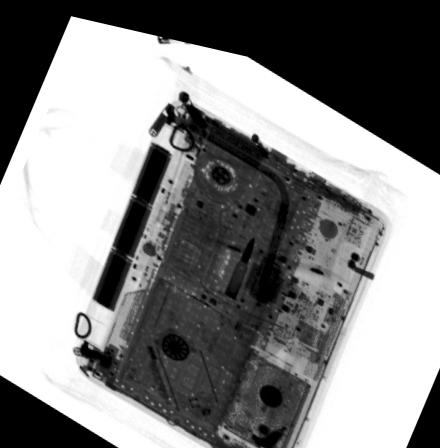Bullet: (223, 222, 254, 289)
